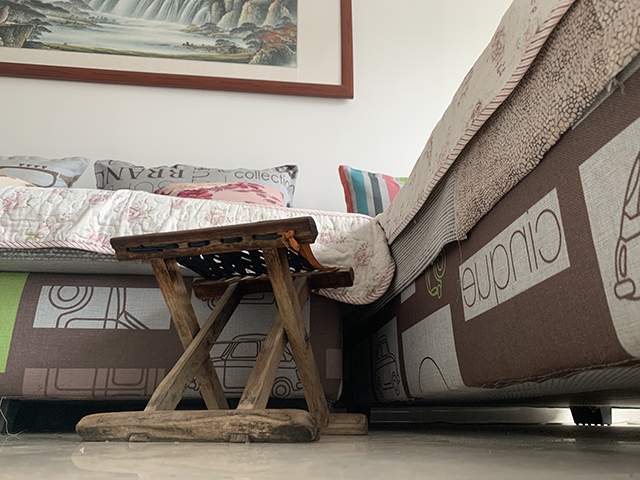sofa: (365, 1, 640, 429), (1, 173, 376, 429)
stool: (75, 216, 371, 445)
